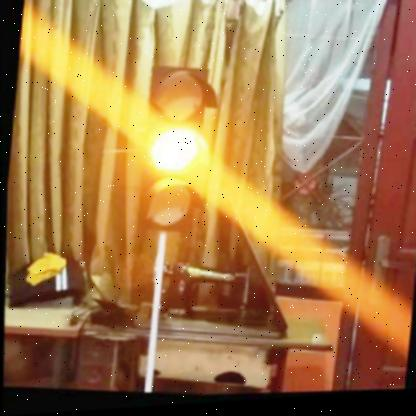Traffic Light -Yellow-: (135, 66, 220, 239)
